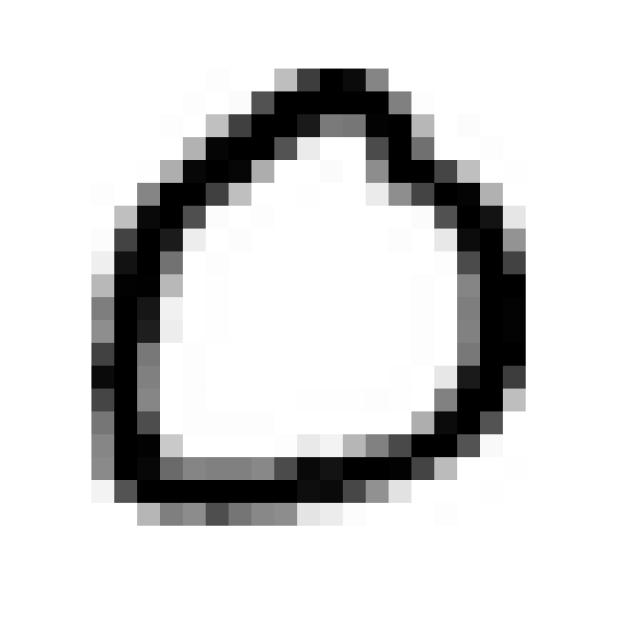5 -five-: (76, 46, 543, 535)
